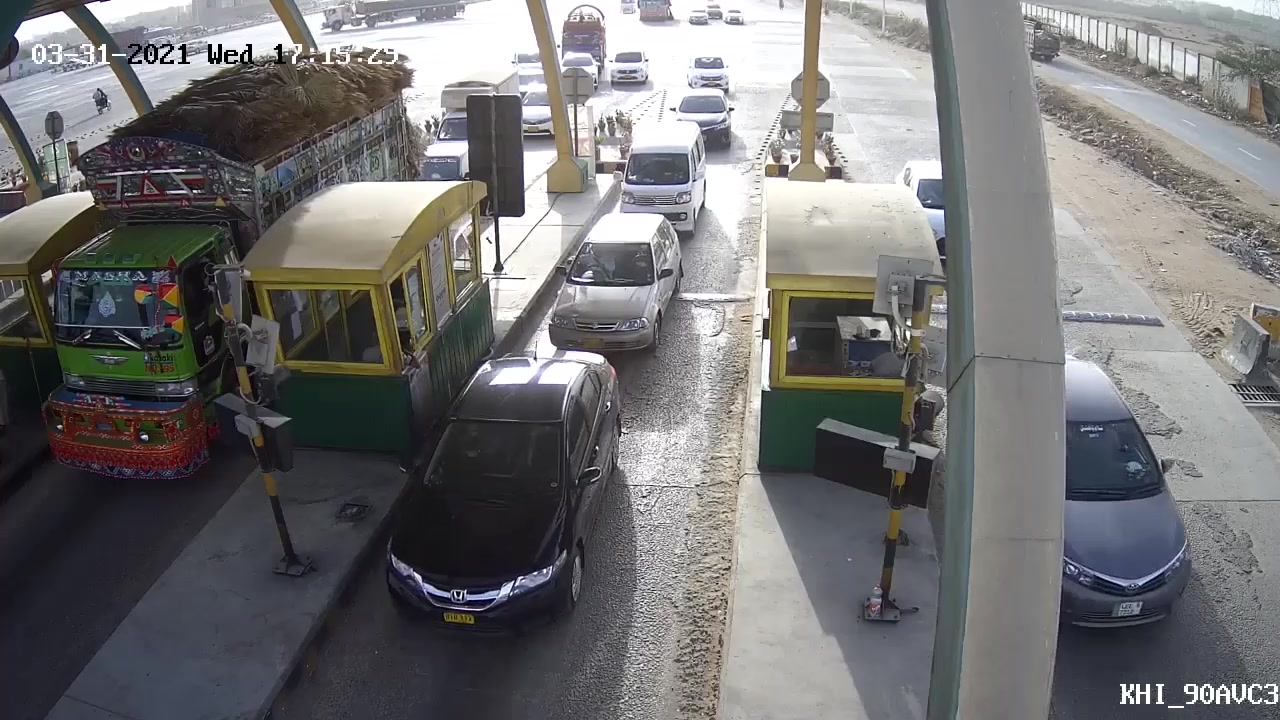F1: (378, 346, 638, 664), (549, 212, 682, 360), (619, 116, 710, 235)
